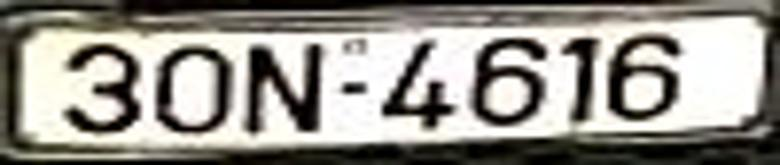-: (335, 82, 367, 94)
0: (155, 44, 233, 131)
1: (559, 38, 599, 123)
3: (64, 40, 141, 139)
4: (384, 37, 452, 131)
6: (471, 36, 544, 127), (609, 33, 681, 117)
N: (245, 42, 322, 135)
